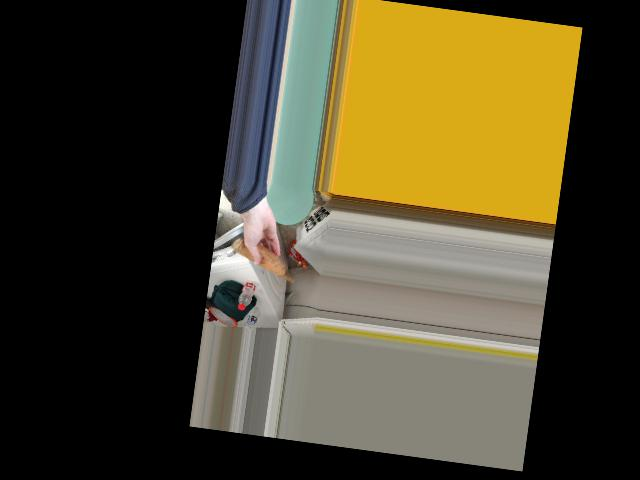sweet_potato: (233, 238, 283, 276)
